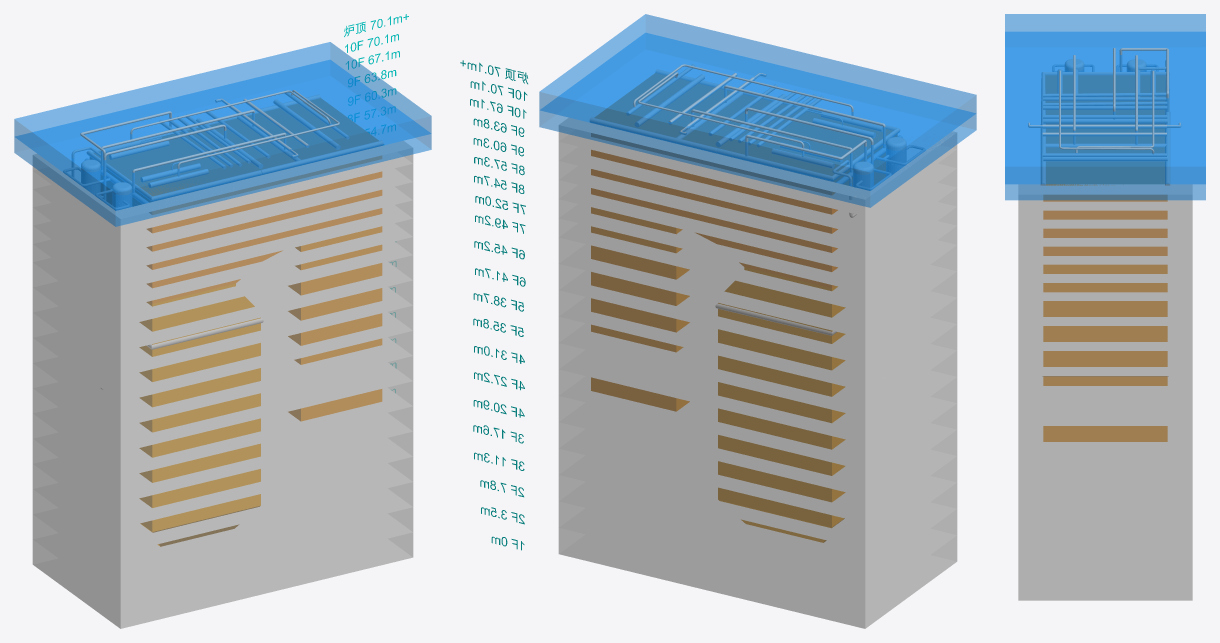
The picture shows the model from 3 angles, left to right: view 1: azimuth 30°, elevation 25°; view 2: azimuth 150°, elevation 25°; view 3: azimuth 270°, elevation 25°; orthographic projection. The views are drawn at different scales.
Parts seen in each view (by area): view 1: 楼层_10_2, 楼层_10_1, 楼层_2_1, 楼层_3_2, 楼层_4_3, 楼层_4_1, 楼层_6_2, 水平烟道, 水冷壁, 楼层_7_2, 楼层_8_2, 楼层_8_1 (+20 smaller); view 2: 楼层_10_2, 楼层_10_1, 楼层_2_1, 楼层_3_2, 楼层_4_3, 楼层_4_1, 楼层_6_2, 水平烟道, 水冷壁, 楼层_4_2, 楼层_7_2, 楼层_8_1 (+19 smaller); view 3: 楼层_10_2, 楼层_10_1, 水平烟道, 尾部烟道, 楼层_2_1, 楼层_3_2, 楼层_4_3, 楼层_4_2, 楼层_4_1, 楼层_6_2, 楼层_8_2, 楼层_7_2 (+23 smaller).
Part boxes in pixels (<box>): 楼层_10_2: <box>14,42,431,210</box>; 楼层_10_1: <box>14,60,431,226</box>; 楼层_2_1: <box>32,488,413,603</box>; 楼层_3_2: <box>32,413,413,527</box>; 楼层_4_3: <box>32,337,413,452</box>; 楼层_4_1: <box>32,387,413,502</box>; 楼层_6_2: <box>32,241,413,351</box>; 水平烟道: <box>90,98,382,303</box>; 水冷壁: <box>139,283,260,546</box>; 楼层_7_2: <box>32,205,413,308</box>; 楼层_8_2: <box>32,168,413,271</box>; 楼层_8_1: <box>32,187,413,289</box>; 楼层_10_2: <box>539,14,976,190</box>; 楼层_10_1: <box>539,33,976,207</box>; 楼层_2_1: <box>558,482,957,602</box>; 楼层_3_2: <box>558,402,957,523</box>; 楼层_4_3: <box>558,323,957,443</box>; 楼层_4_1: <box>558,376,957,496</box>; 楼层_6_2: <box>558,223,957,338</box>; 水平烟道: <box>591,73,897,288</box>; 水冷壁: <box>718,267,845,542</box>; 楼层_4_2: <box>558,356,957,470</box>; 楼层_7_2: <box>558,185,957,292</box>; 楼层_8_1: <box>558,166,957,273</box>; 楼层_10_2: <box>1005,14,1205,183</box>; 楼层_10_1: <box>1005,32,1205,200</box>; 水平烟道: <box>1043,75,1167,255</box>; 尾部烟道: <box>1043,264,1167,385</box>; 楼层_2_1: <box>1018,525,1192,575</box>; 楼层_3_2: <box>1018,450,1192,500</box>; 楼层_4_3: <box>1018,376,1192,425</box>; 楼层_4_2: <box>1018,401,1192,450</box>; 楼层_4_1: <box>1018,426,1192,475</box>; 楼层_6_2: <box>1018,283,1192,325</box>; 楼层_8_2: <box>1018,210,1192,246</box>; 楼层_7_2: <box>1018,246,1192,282</box>.
Size of the model in its own units: 10213 by 11530 by 4563.
